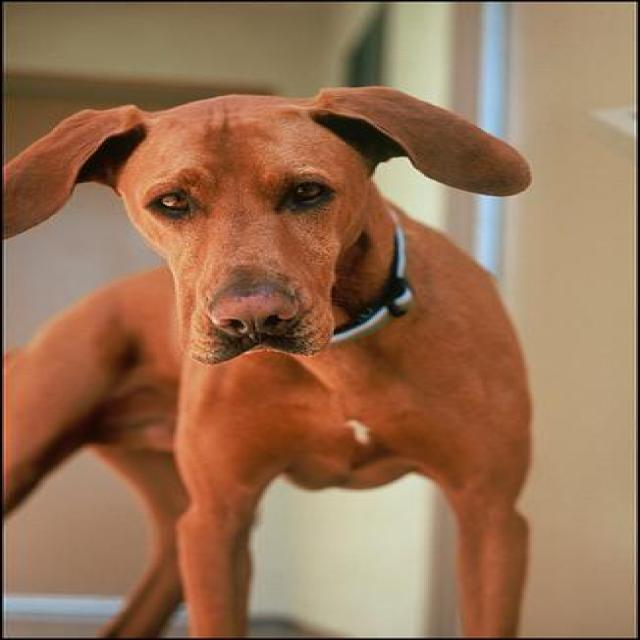rhodesian_ridgeback: (0, 80, 536, 638)
